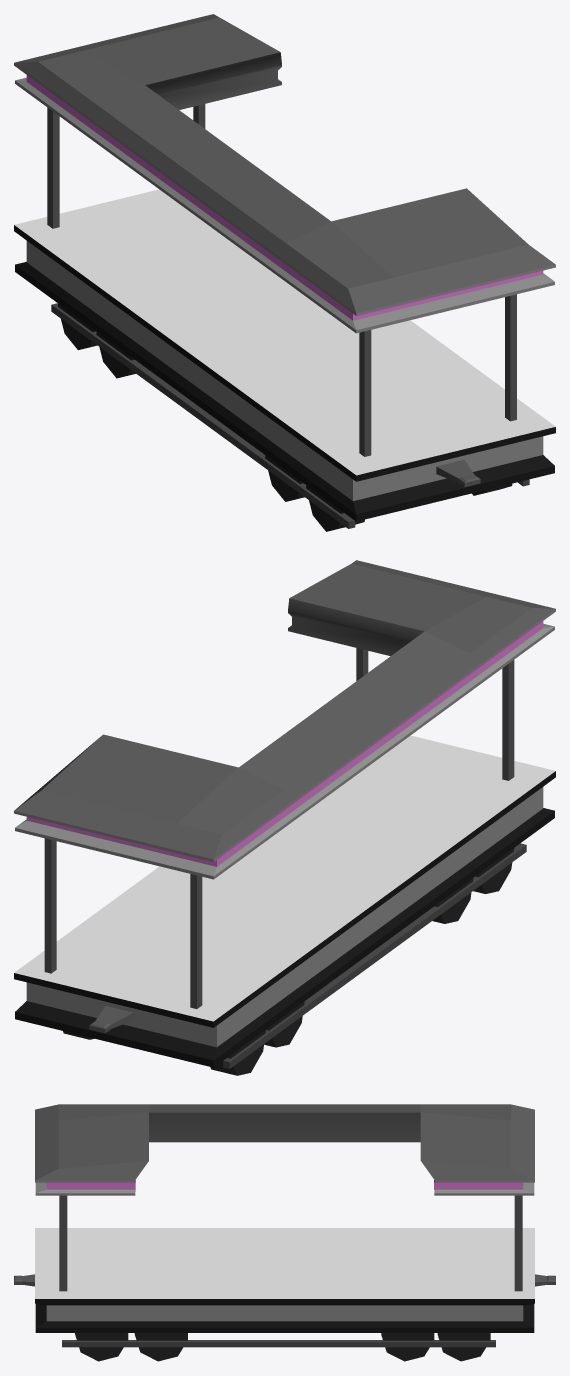
Rendered from Basic_Train_canon_cart.fbx.
3 renders of one model, top to bottom at view 1: azimuth 30°, elevation 25°; view 2: azimuth 150°, elevation 25°; view 3: azimuth 270°, elevation 25°, orthographic. The views are drawn at different scales.
Parts seen in each view (by area): view 1: Base_floor, roof, Pillars, wheel_pillars, wheel, Connectors; view 2: Base_floor, roof, Pillars, wheel_pillars, wheel, Connectors; view 3: Base_floor, roof, wheel, wheel_pillars, Pillars, Connectors.
Part boxes in pixels (x1,y1,x2,y2): Base_floor: (14,189,555,521); roof: (14,14,555,333); Pillars: (47,104,516,456); wheel_pillars: (51,303,529,528); wheel: (57,303,512,531); Connectors: (436,459,480,486); Base_floor: (14,735,555,1067); roof: (14,560,555,879); Pillars: (44,648,514,1008); wheel_pillars: (223,843,526,1068); wheel: (63,848,514,1075); Connectors: (89,1006,133,1033); Base_floor: (35,1228,534,1332); roof: (35,1104,534,1195); wheel: (75,1333,490,1361); wheel_pillars: (62,1340,495,1347); Pillars: (59,1195,522,1291); Connectors: (14,1274,555,1286).
Bounding box in the file's own units: 1916 × 2528 × 6173.
